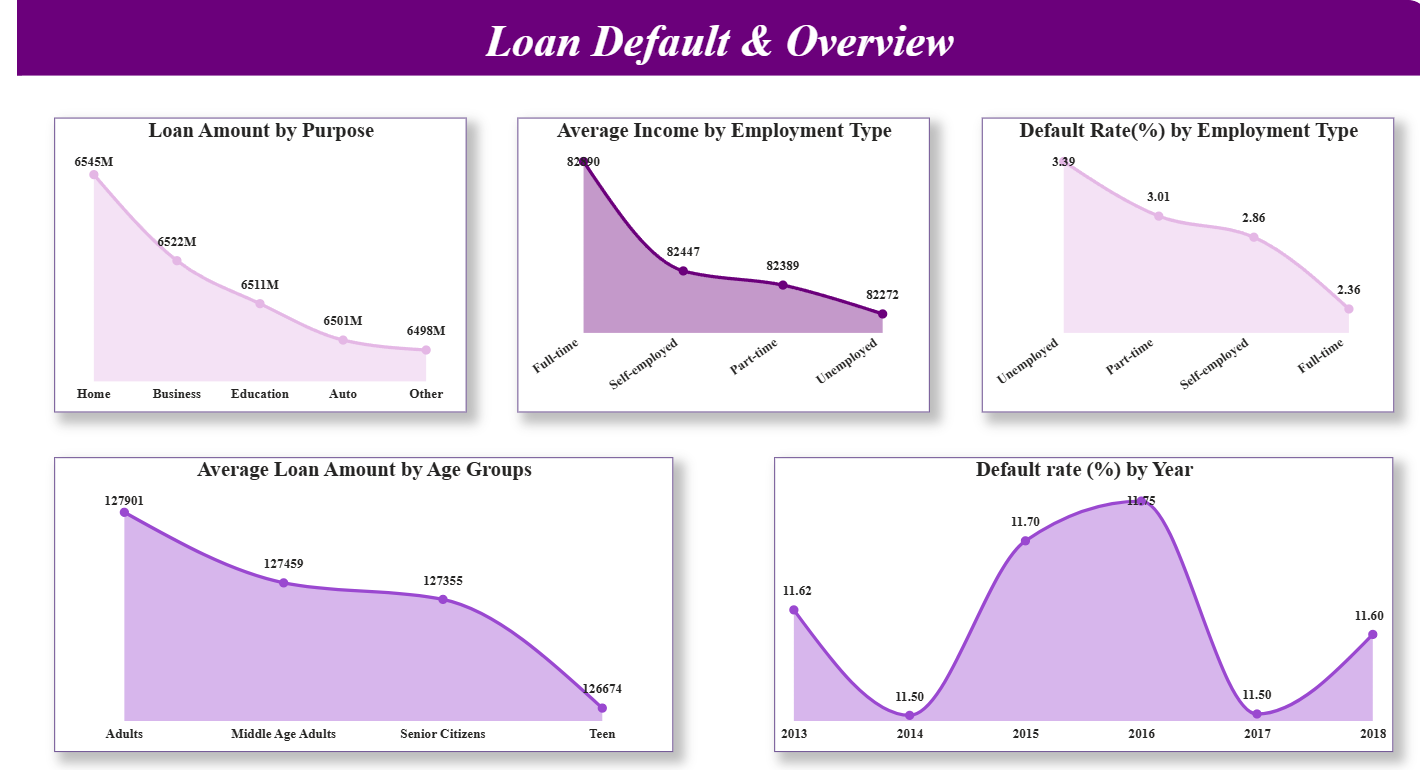

Layout of this report page (visuals, bound fields, positions):
{"tool":"powerbi","page":{"name":"Loan Default & Overview","canvas":[1280,720],"ordinal":0},"visuals":[{"type":"shape","box":[0,0,1280,68.8],"z":0},{"type":"lineChart","title":"Loan Amount by Purpose ","fields":{"Y":["Meaures Table 1.Loan Amount by Purpose"],"Category":["Loan_default.LoanPurpose"]},"box":[33.5,106.9,373.8,267.5],"z":1000},{"type":"lineChart","title":"Average Income by Employment Type","fields":{"Category":["Loan_default.EmploymentType"],"Y":["Loan_default.Average Income by Employement type"]},"box":[453.5,106.9,373.8,267.5],"z":2000},{"type":"lineChart","title":"Default Rate(%) by Employment Type","fields":{"Category":["Loan_default.EmploymentType"],"Y":["Meaures Table 1.Default Rate by Employment type"]},"box":[874.8,106.9,373.8,267.5],"z":3000},{"type":"lineChart","title":"Average Loan Amount by Age Groups","fields":{"Category":["Loan_default.Age Groups"],"Y":["Meaures Table 1.Average Loan Amount by Age Groups"]},"box":[33.8,415,561.2,267.5],"z":4000},{"type":"lineChart","title":"Default rate (%) by Year","fields":{"Y":["Meaures Table 1.Default Rate by Year"],"Category":["Loan_default.Year"]},"box":[687.5,415,561.2,267.5],"z":5000}]}

Visuals, with their boxes in screenshot pixels (x1, y1, x2, y2):
shape: bbox=[22, 0, 1419, 75]
"Loan Amount by Purpose " lineChart: bbox=[59, 117, 467, 409]
"Average Income by Employment Type" lineChart: bbox=[518, 117, 926, 409]
"Default Rate(%) by Employment Type" lineChart: bbox=[978, 117, 1386, 409]
"Average Loan Amount by Age Groups" lineChart: bbox=[59, 453, 672, 745]
"Default rate (%) by Year" lineChart: bbox=[773, 453, 1386, 745]
